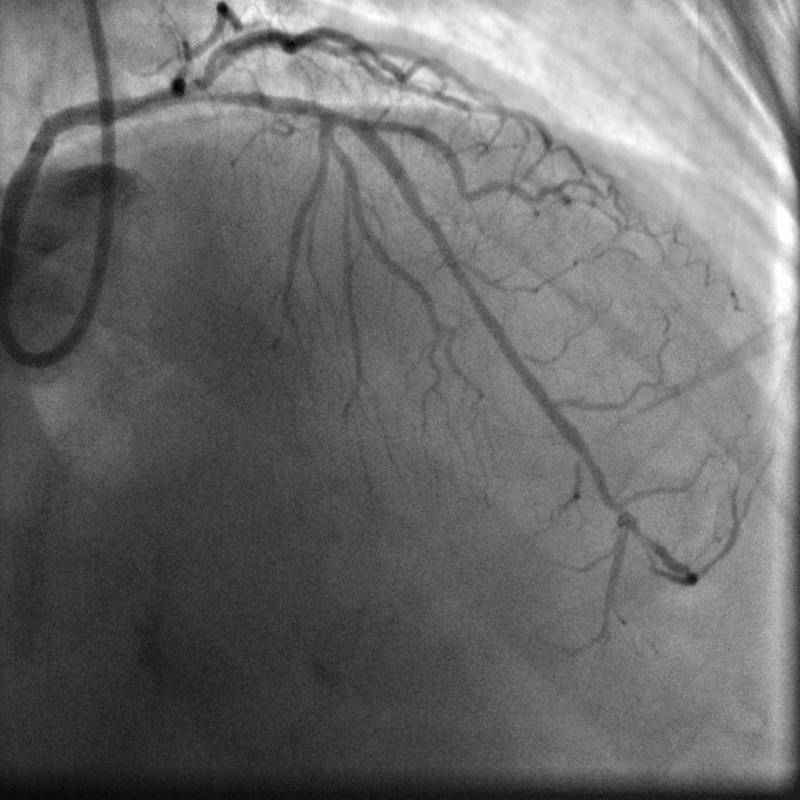Stenosis: (177, 82, 248, 109)
